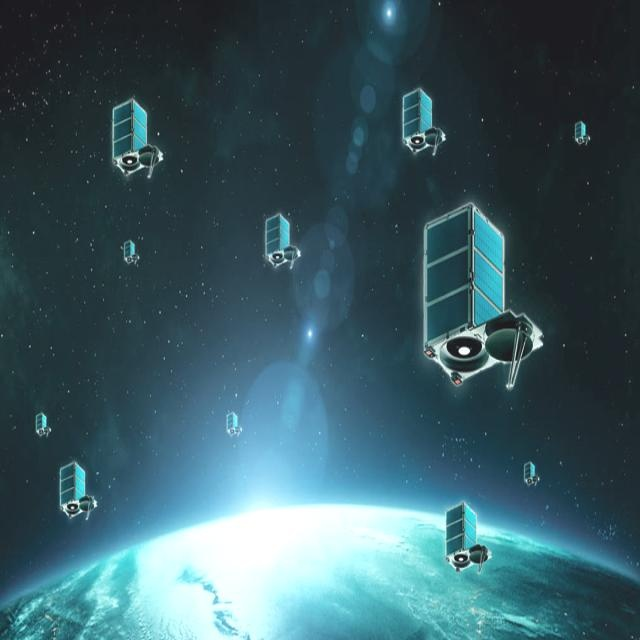satellite: (412, 202, 542, 399), (100, 94, 168, 188), (385, 80, 446, 163), (438, 498, 494, 578), (51, 449, 105, 531), (253, 202, 303, 290), (222, 402, 242, 448), (29, 406, 51, 446), (123, 233, 140, 275), (572, 119, 593, 153)
